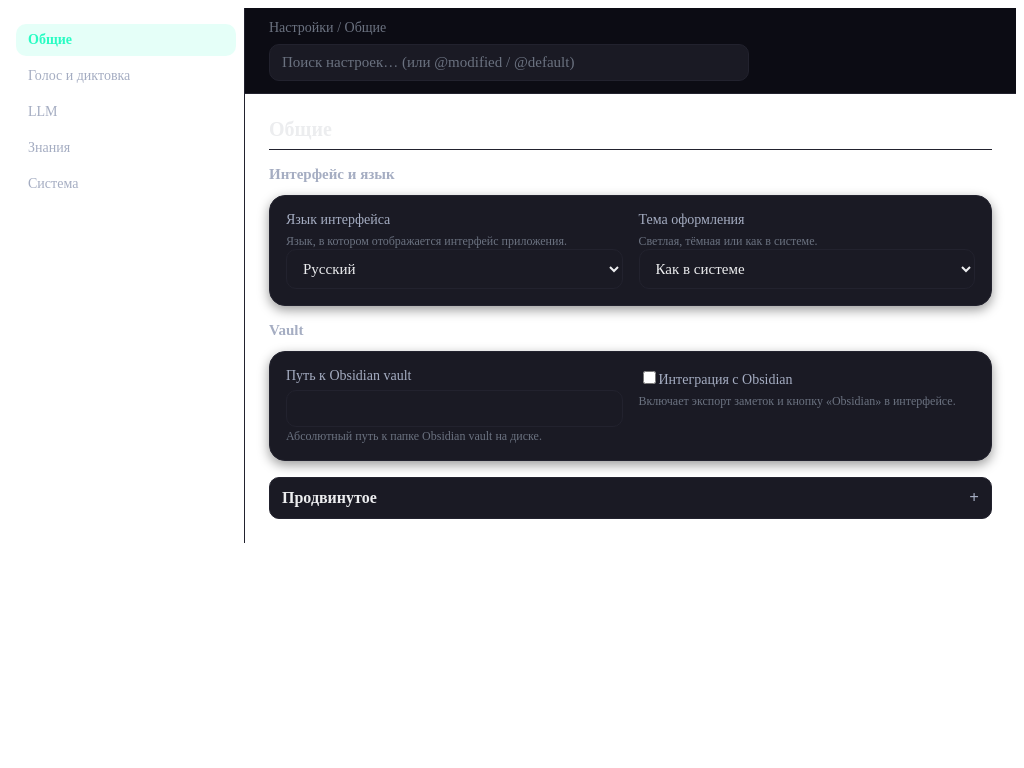
Scenario: Settings — store-driven › shows invalid-url validation error when endpoint malformed
Click the button with test id "settings-sidebar-llm" at coordinates (126, 112), box [16,96,236,128]
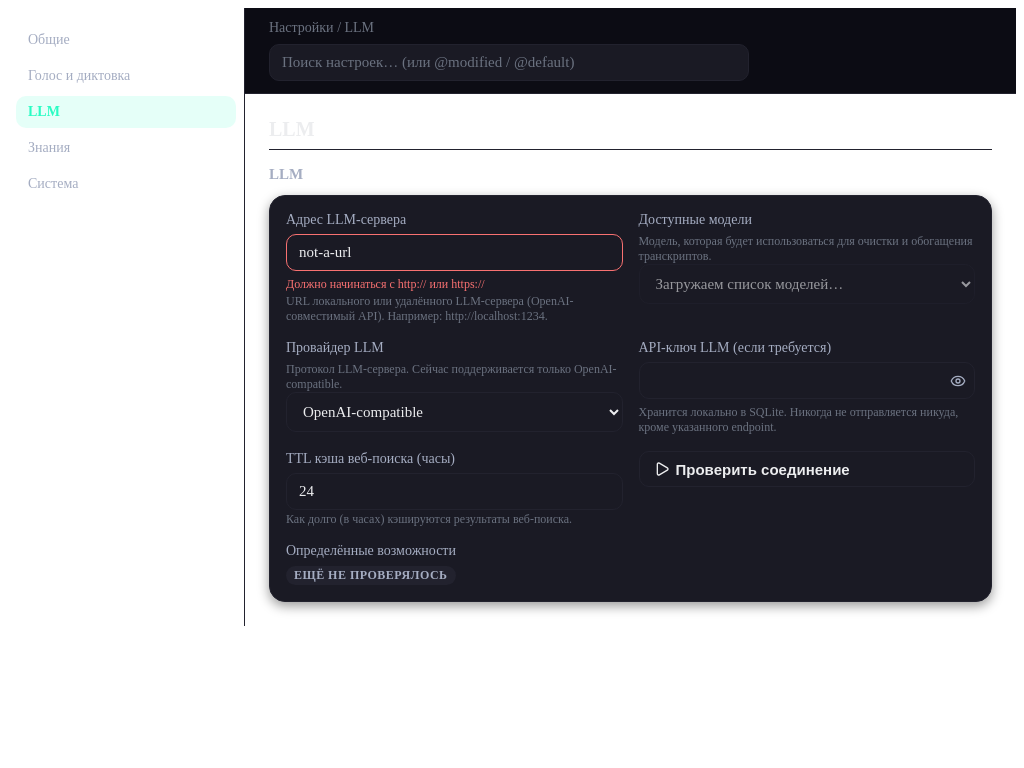
Result: the text "Должно начинаться с http:// или https://" is shown at [286,277,485,291]
